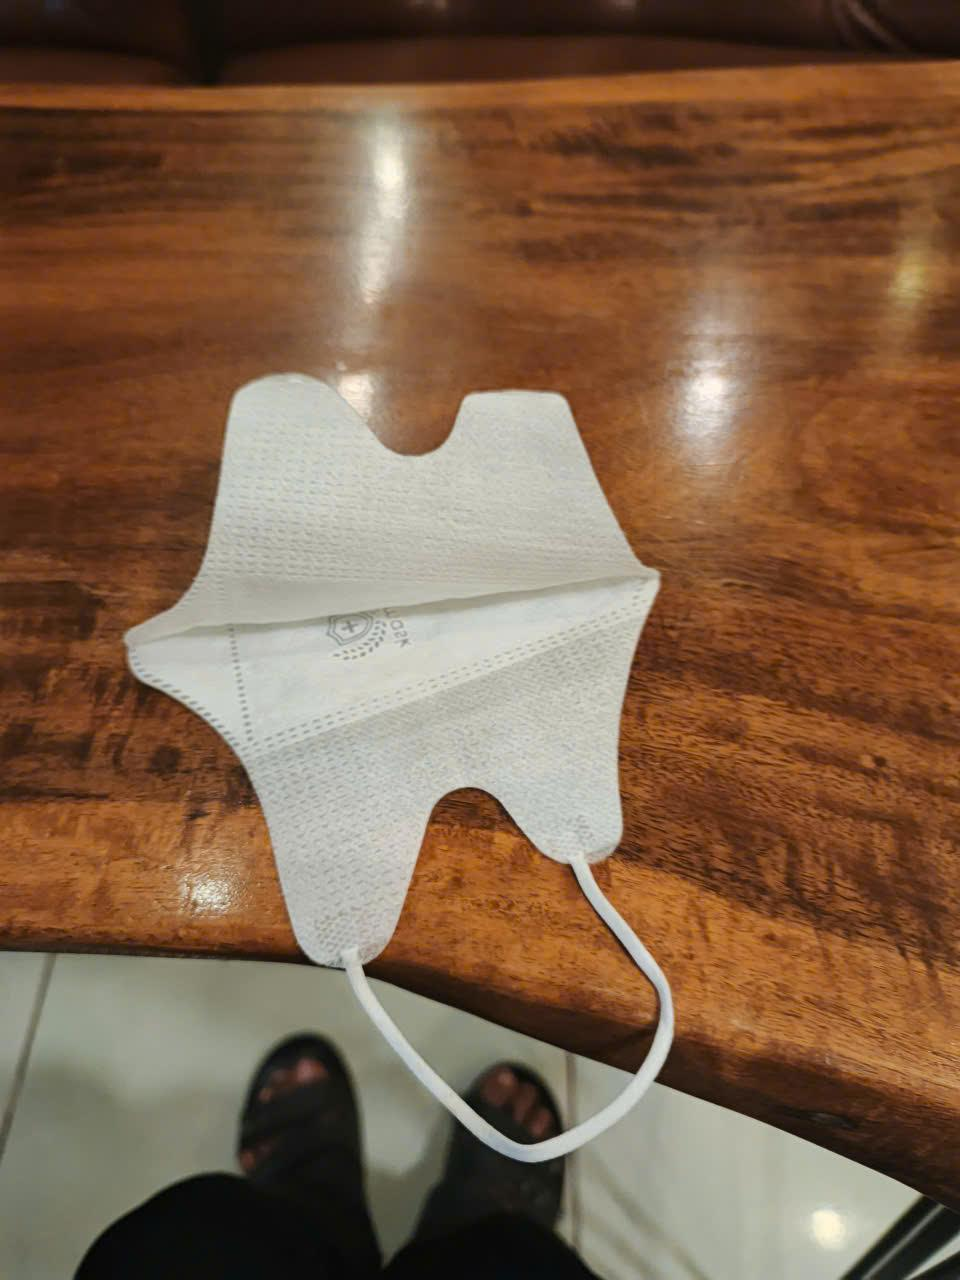Con lai: (130, 376, 684, 1161)
